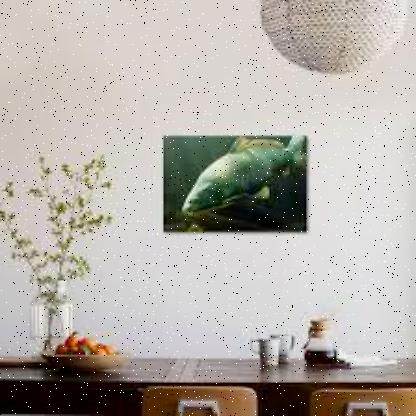ikan-mas: (170, 136, 304, 223)
